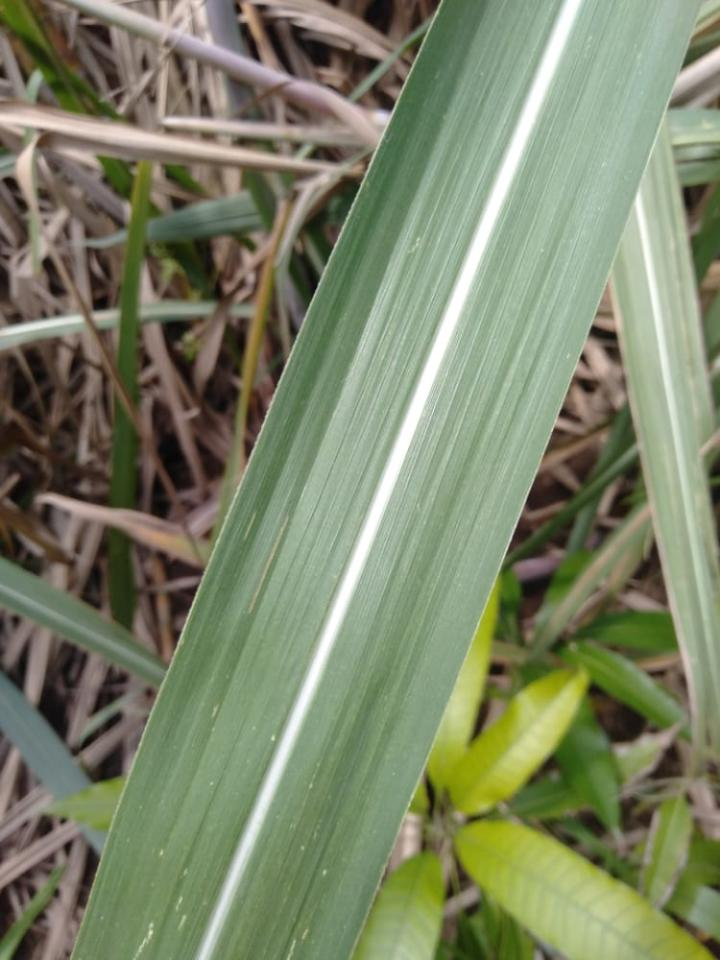Healthy: (68, 0, 701, 959)
